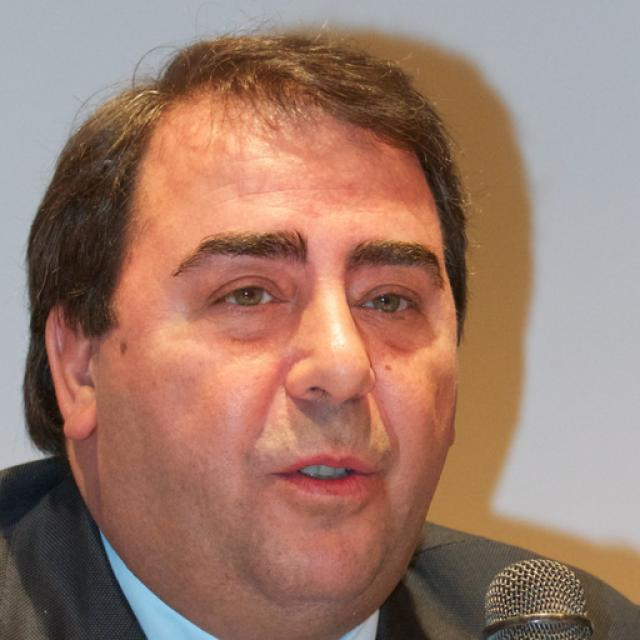surprise: (99, 89, 462, 612)
